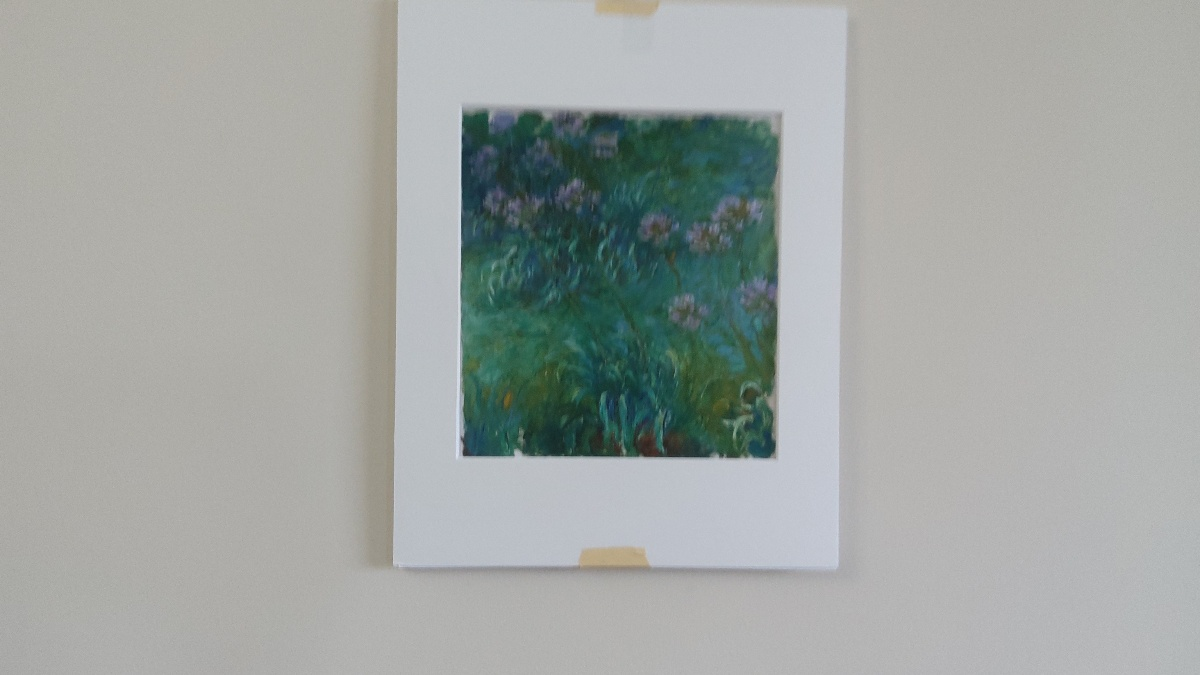painting: (452, 95, 785, 472)
